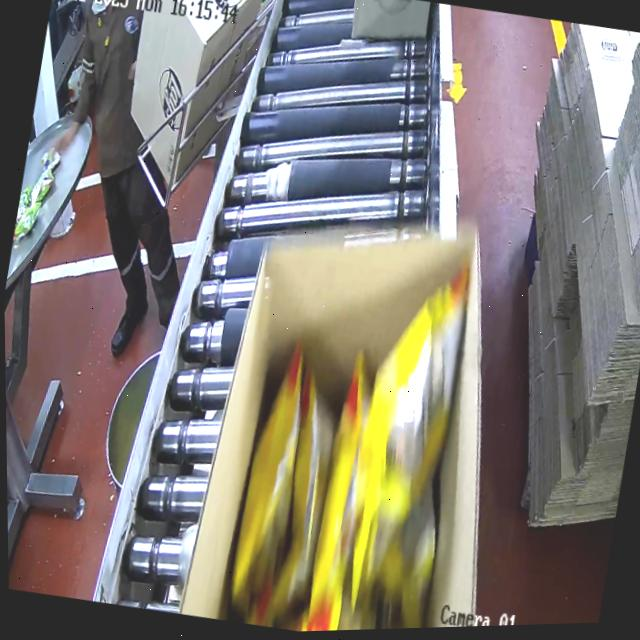SALTED: (213, 253, 480, 634)
